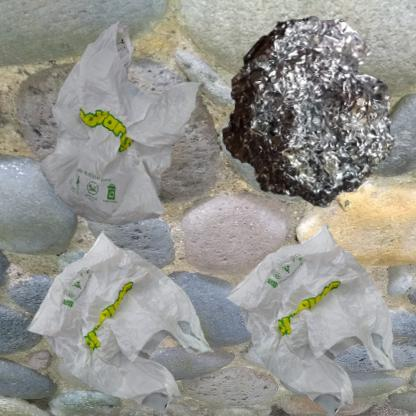aluminio: (213, 10, 400, 216)
bolsa: (10, 10, 273, 296), (10, 213, 229, 416), (213, 213, 416, 416)
